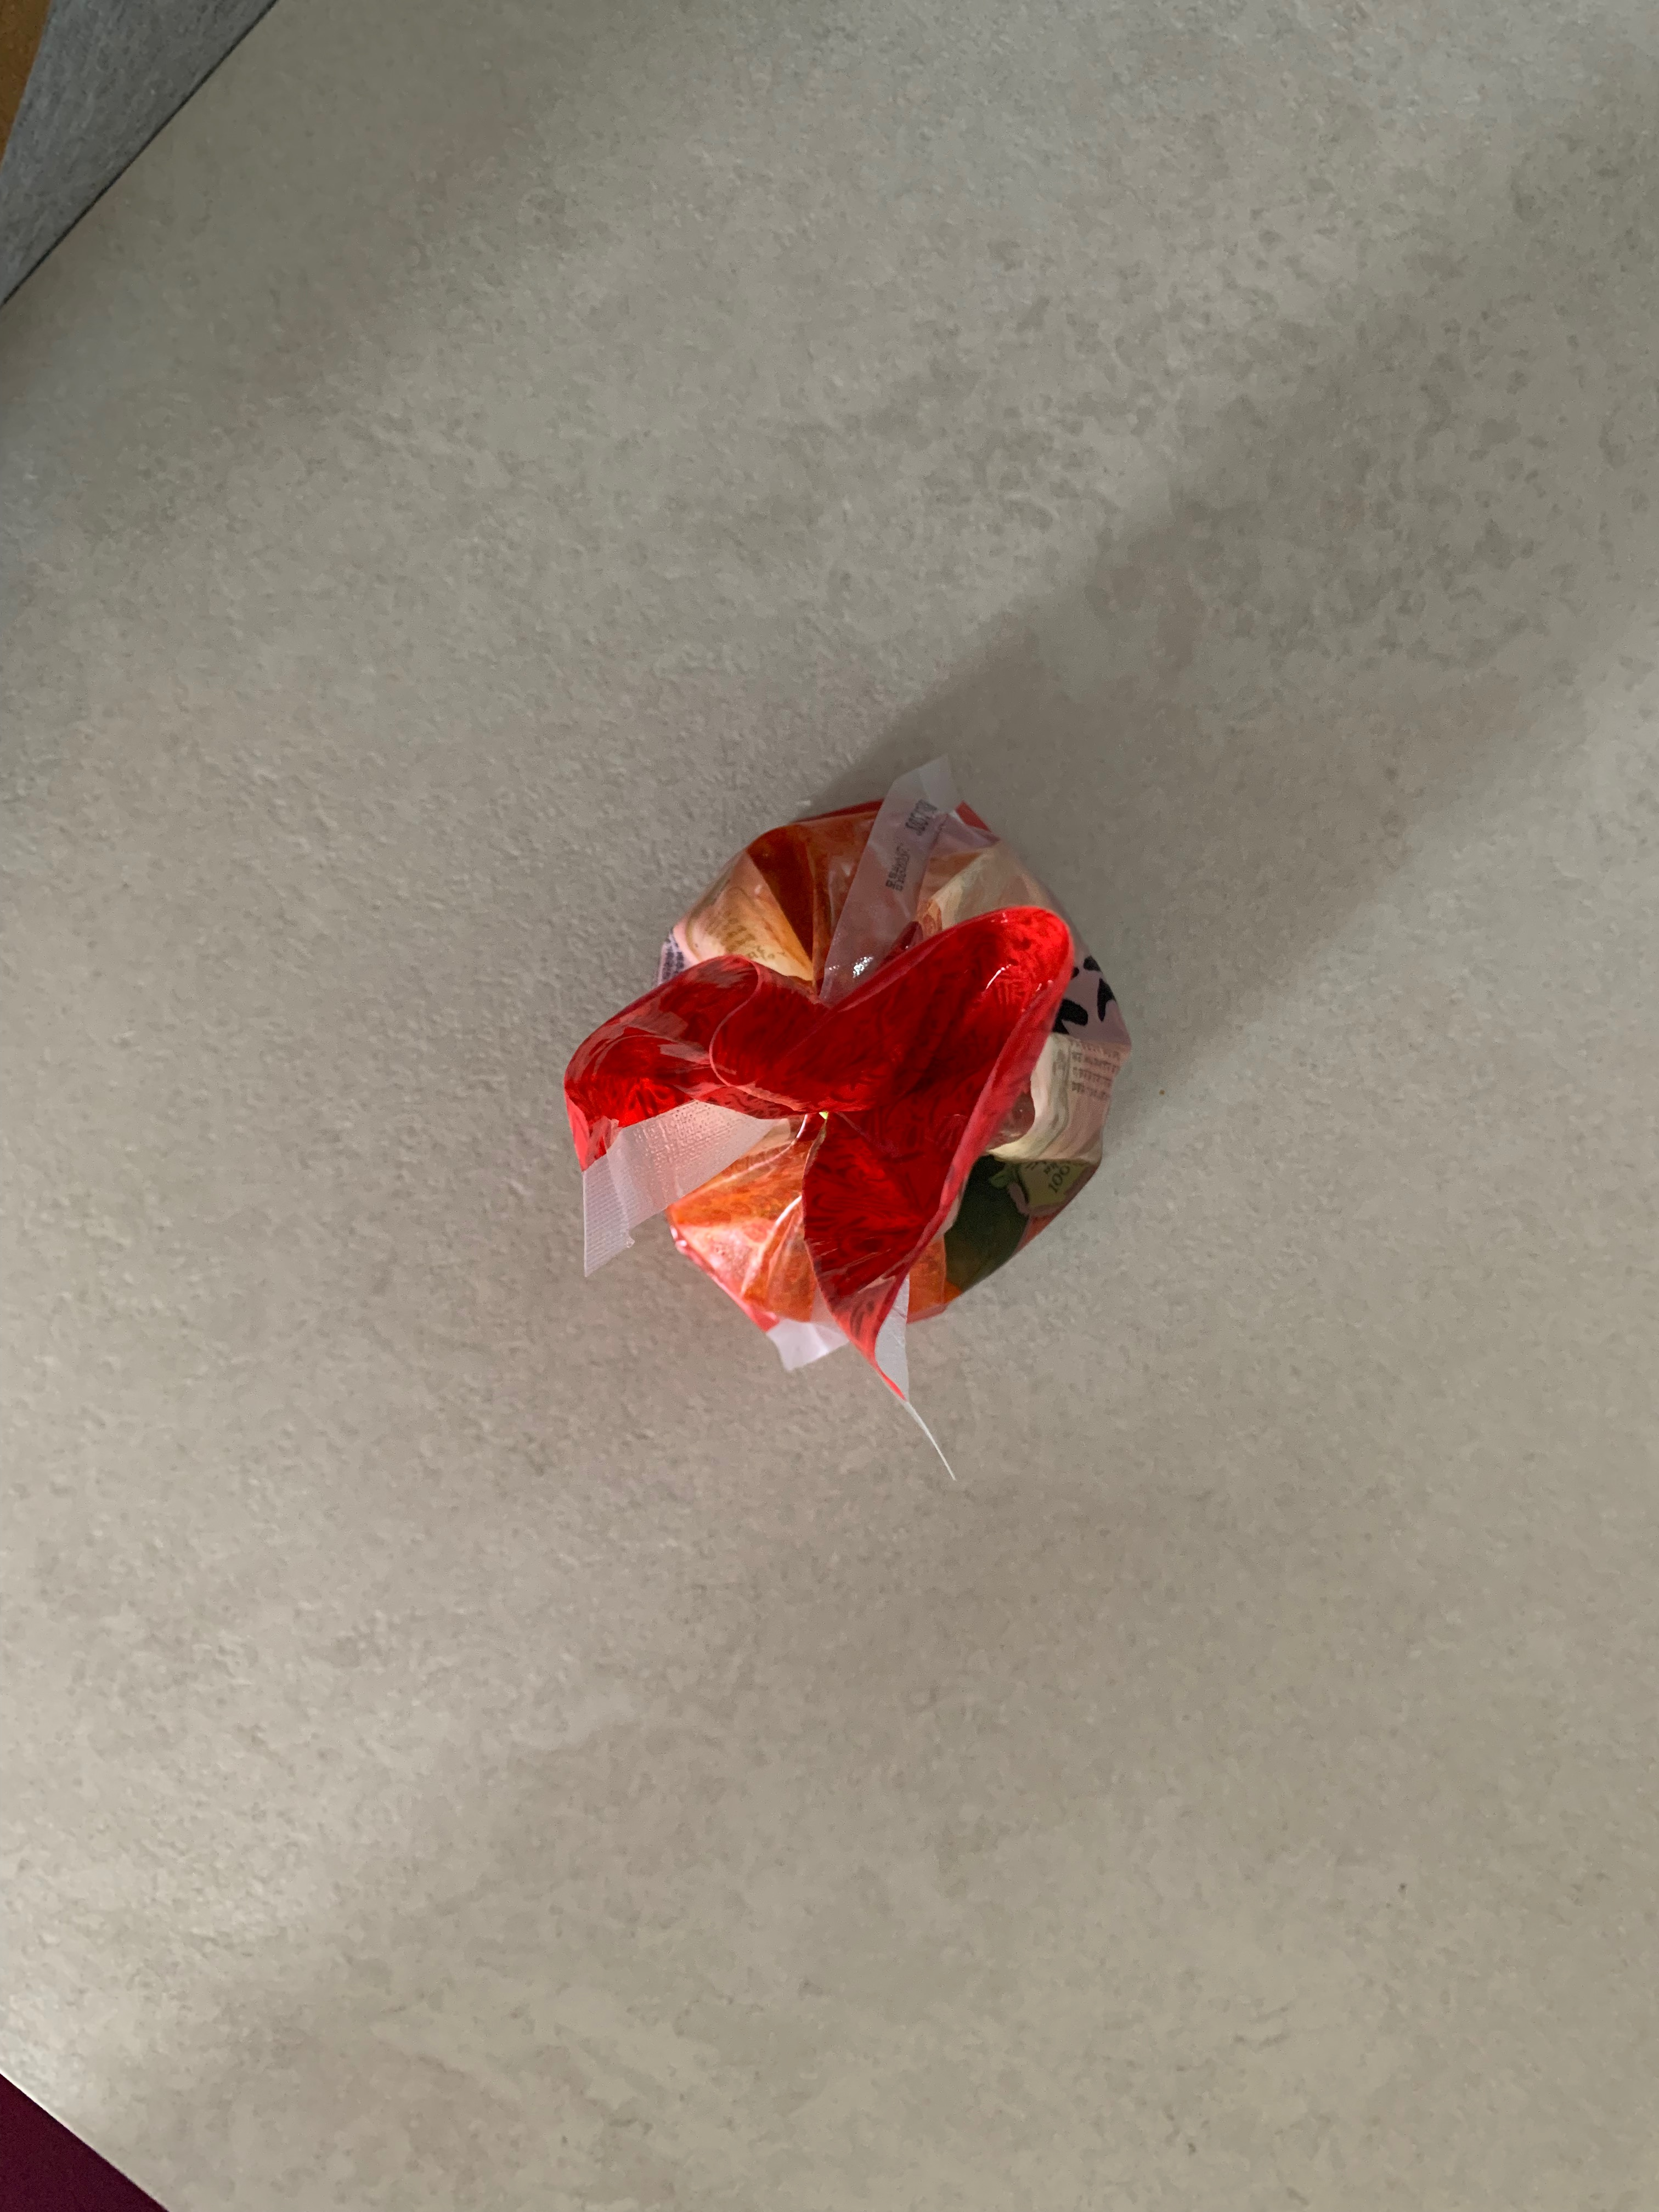kimchi: (561, 799, 1131, 1367)
